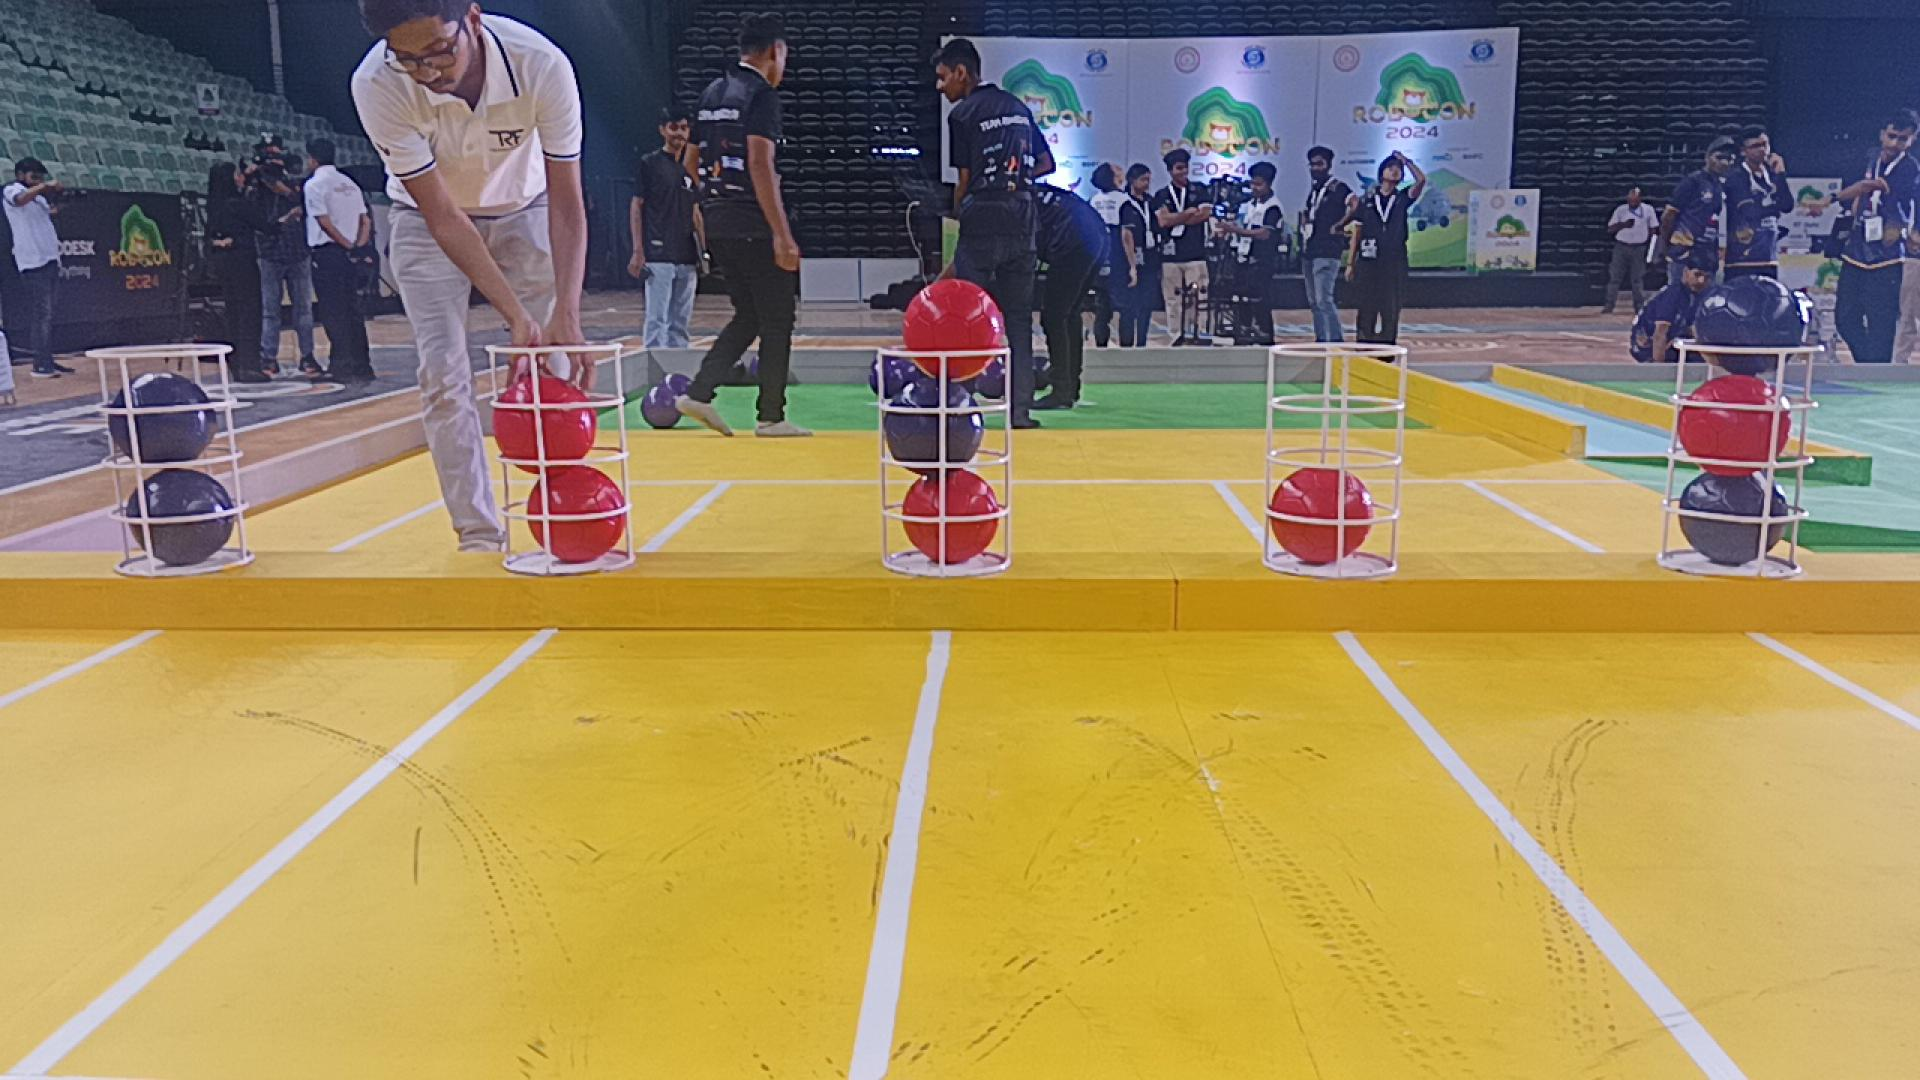dhoka: (1693, 272, 1805, 372), (1679, 471, 1792, 568), (881, 371, 986, 475), (124, 469, 232, 567), (108, 372, 220, 462)
laale: (1679, 375, 1795, 479), (903, 277, 1005, 382), (491, 376, 599, 473), (1269, 465, 1374, 563), (527, 467, 628, 564), (901, 471, 998, 563)
